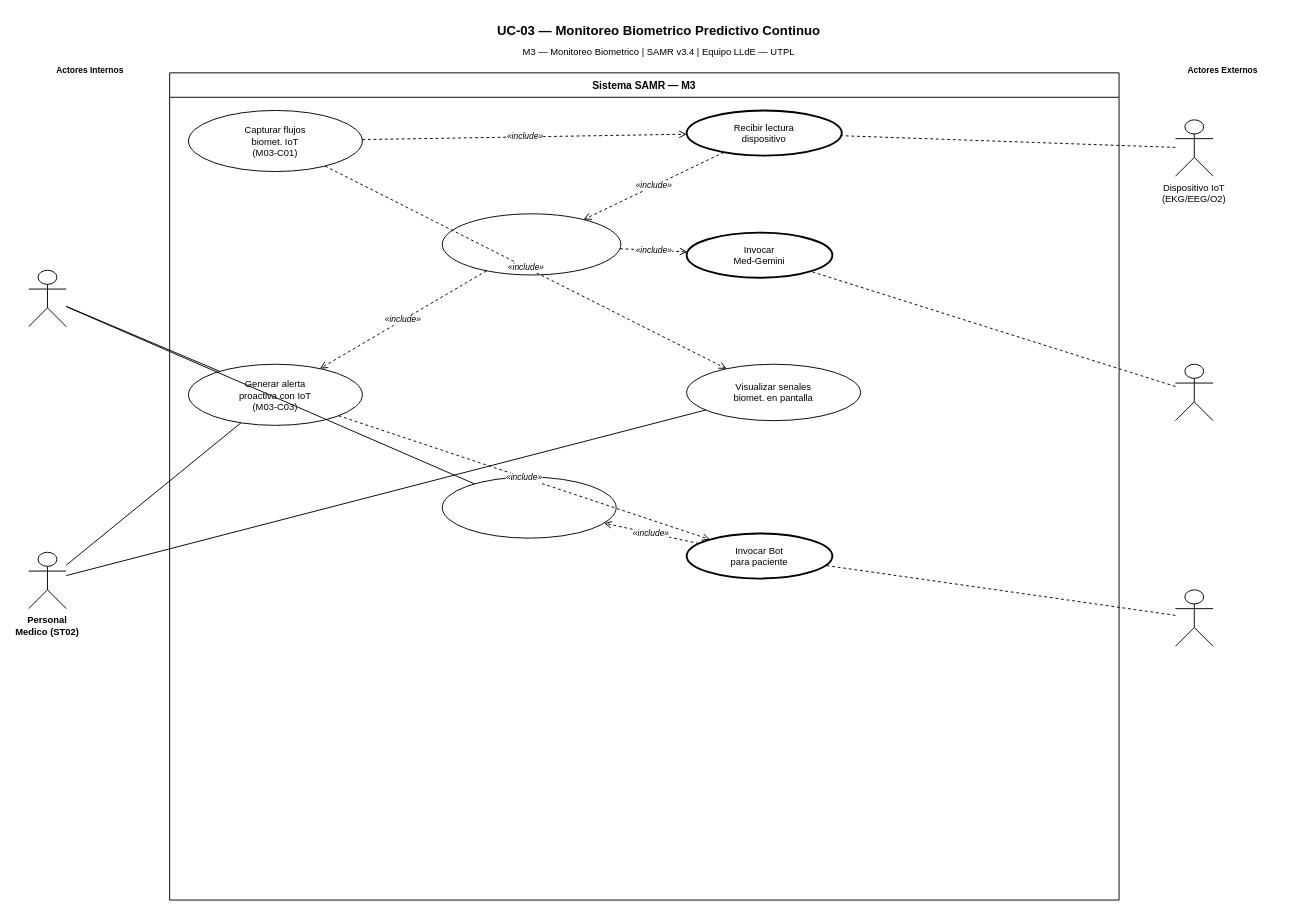
Some shapes in this 1305 by 917 pixel diagram are drawn without their labels. Each missing label, with the centre of its shape:
Bot Conversacional: (1194,617)
Explicar alerta al paciente via bot (M03-C04): (528,507)
Med-Gemini (Sistema): (1194,392)
Med-Gemini — Deteccion predictiva (M03-C02): (531,244)
Paciente (ST01): (47,298)
